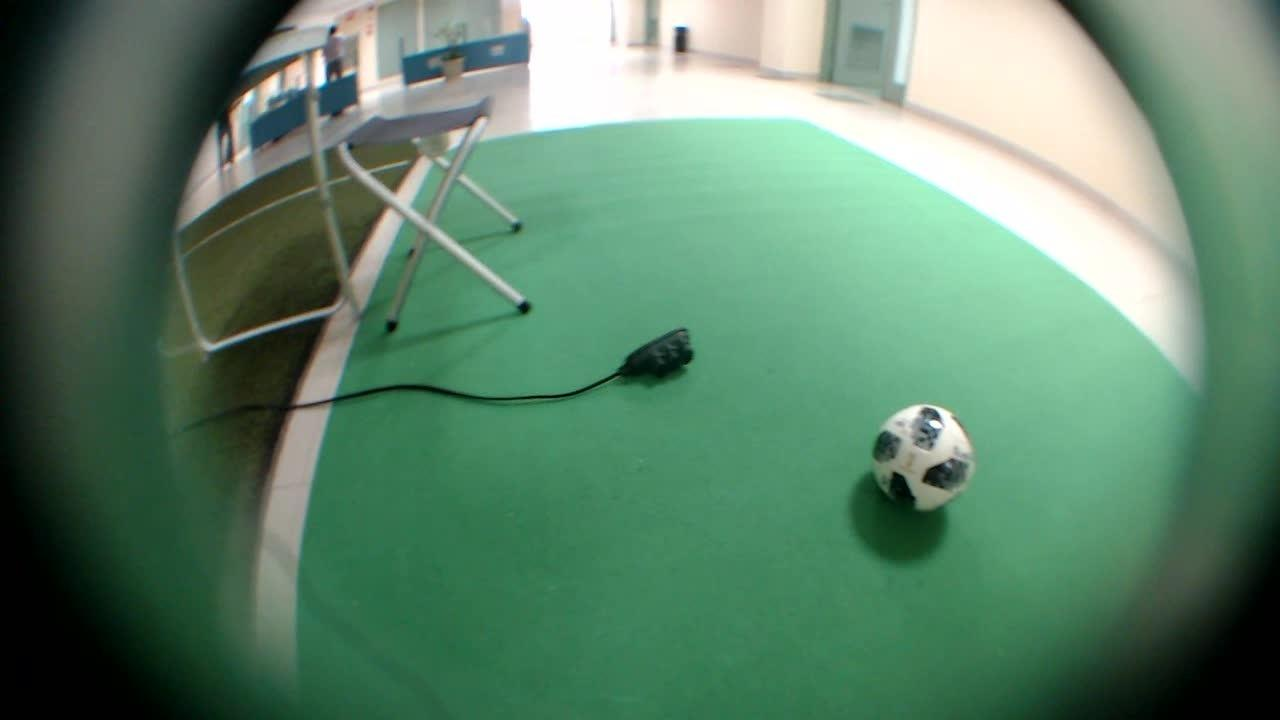ball: (859, 392, 996, 530)
